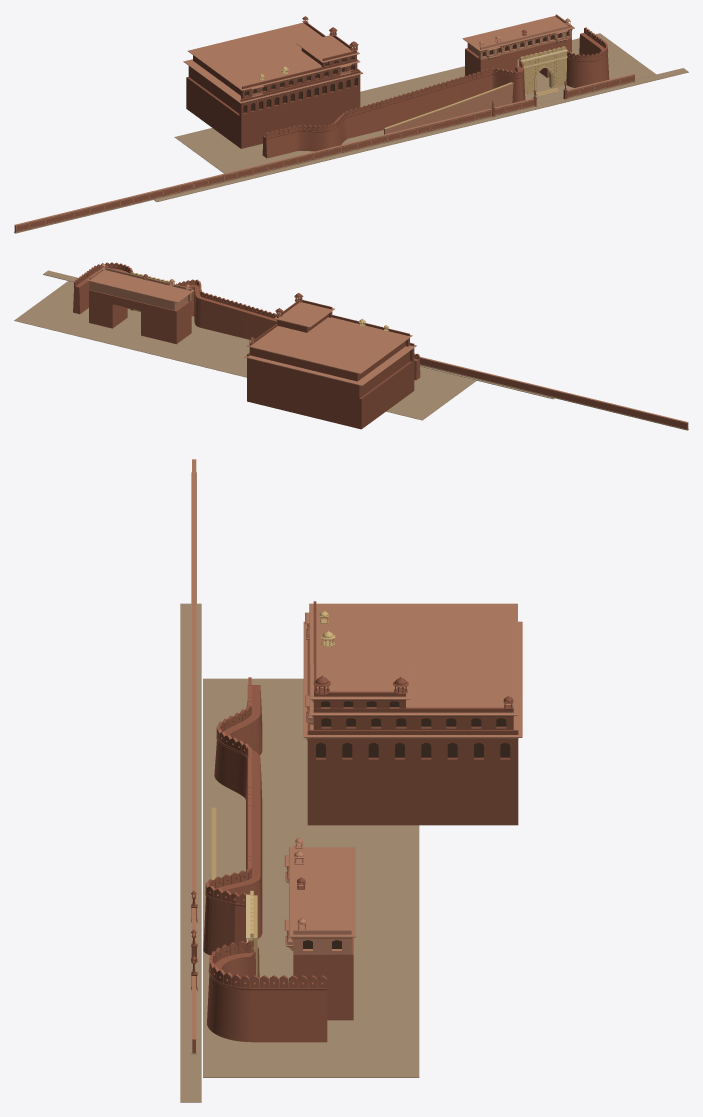
The model's file is junagarh-exterior.glb.
3 renders of one model, top to bottom at view 1: azimuth 30°, elevation 25°; view 2: azimuth 150°, elevation 25°; view 3: azimuth 270°, elevation 25°, orthographic. The views are drawn at different scales.
Size of the model in its own units: 227 by 24.97 by 52.23.
